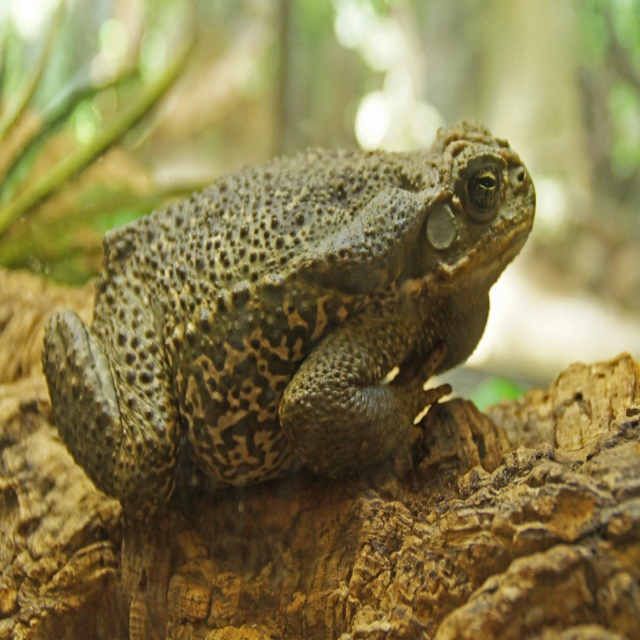Frog: (39, 116, 536, 527)
